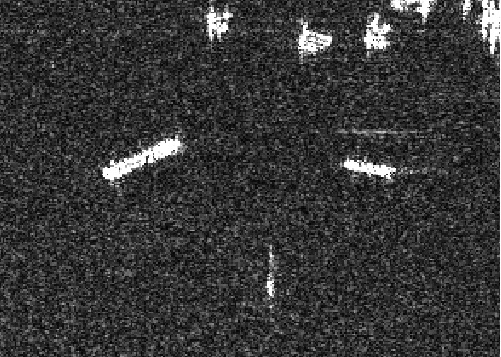ship: (101, 136, 181, 185), (343, 153, 396, 180), (266, 242, 279, 302)
